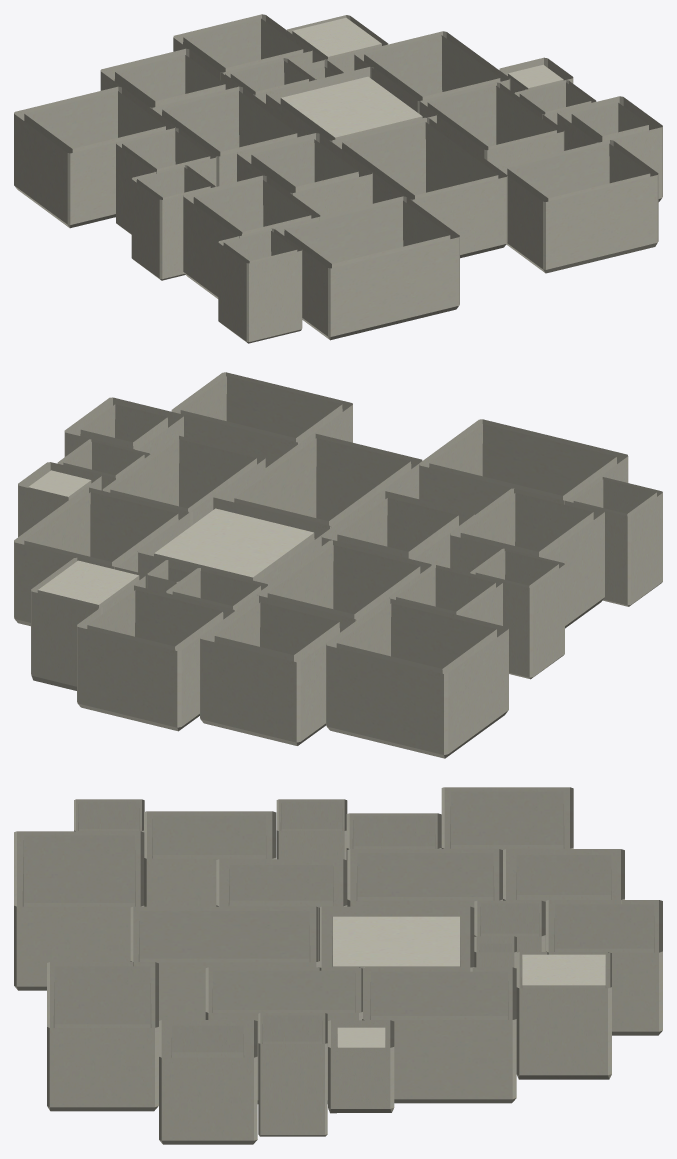
File: nt_2020_shelves_modern_LOD0.obj
3 views of the same model, one above another, from view 1: azimuth 30°, elevation 25°; view 2: azimuth 150°, elevation 25°; view 3: azimuth 270°, elevation 25° (orthographic). The views are drawn at different scales.
Visible parts, largest first — view 1: nt_2020_plastic_cream; view 2: nt_2020_plastic_cream; view 3: nt_2020_plastic_cream.
Boxes of the visible parts, x1=… form: nt_2020_plastic_cream: x1=14, y1=14, x2=662, y2=343; nt_2020_plastic_cream: x1=14, y1=372, x2=662, y2=758; nt_2020_plastic_cream: x1=14, y1=787, x2=662, y2=1144.
Bounding box in the file's own units: 173 × 30.69 × 175.
